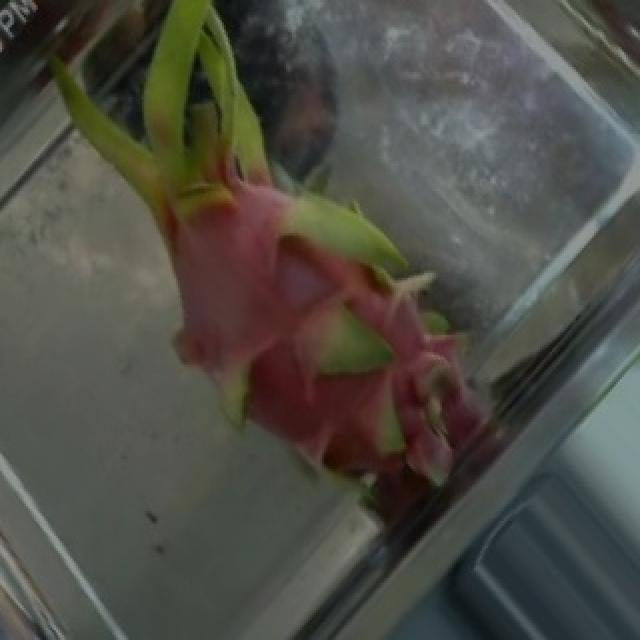fruit: (104, 104, 556, 576)
